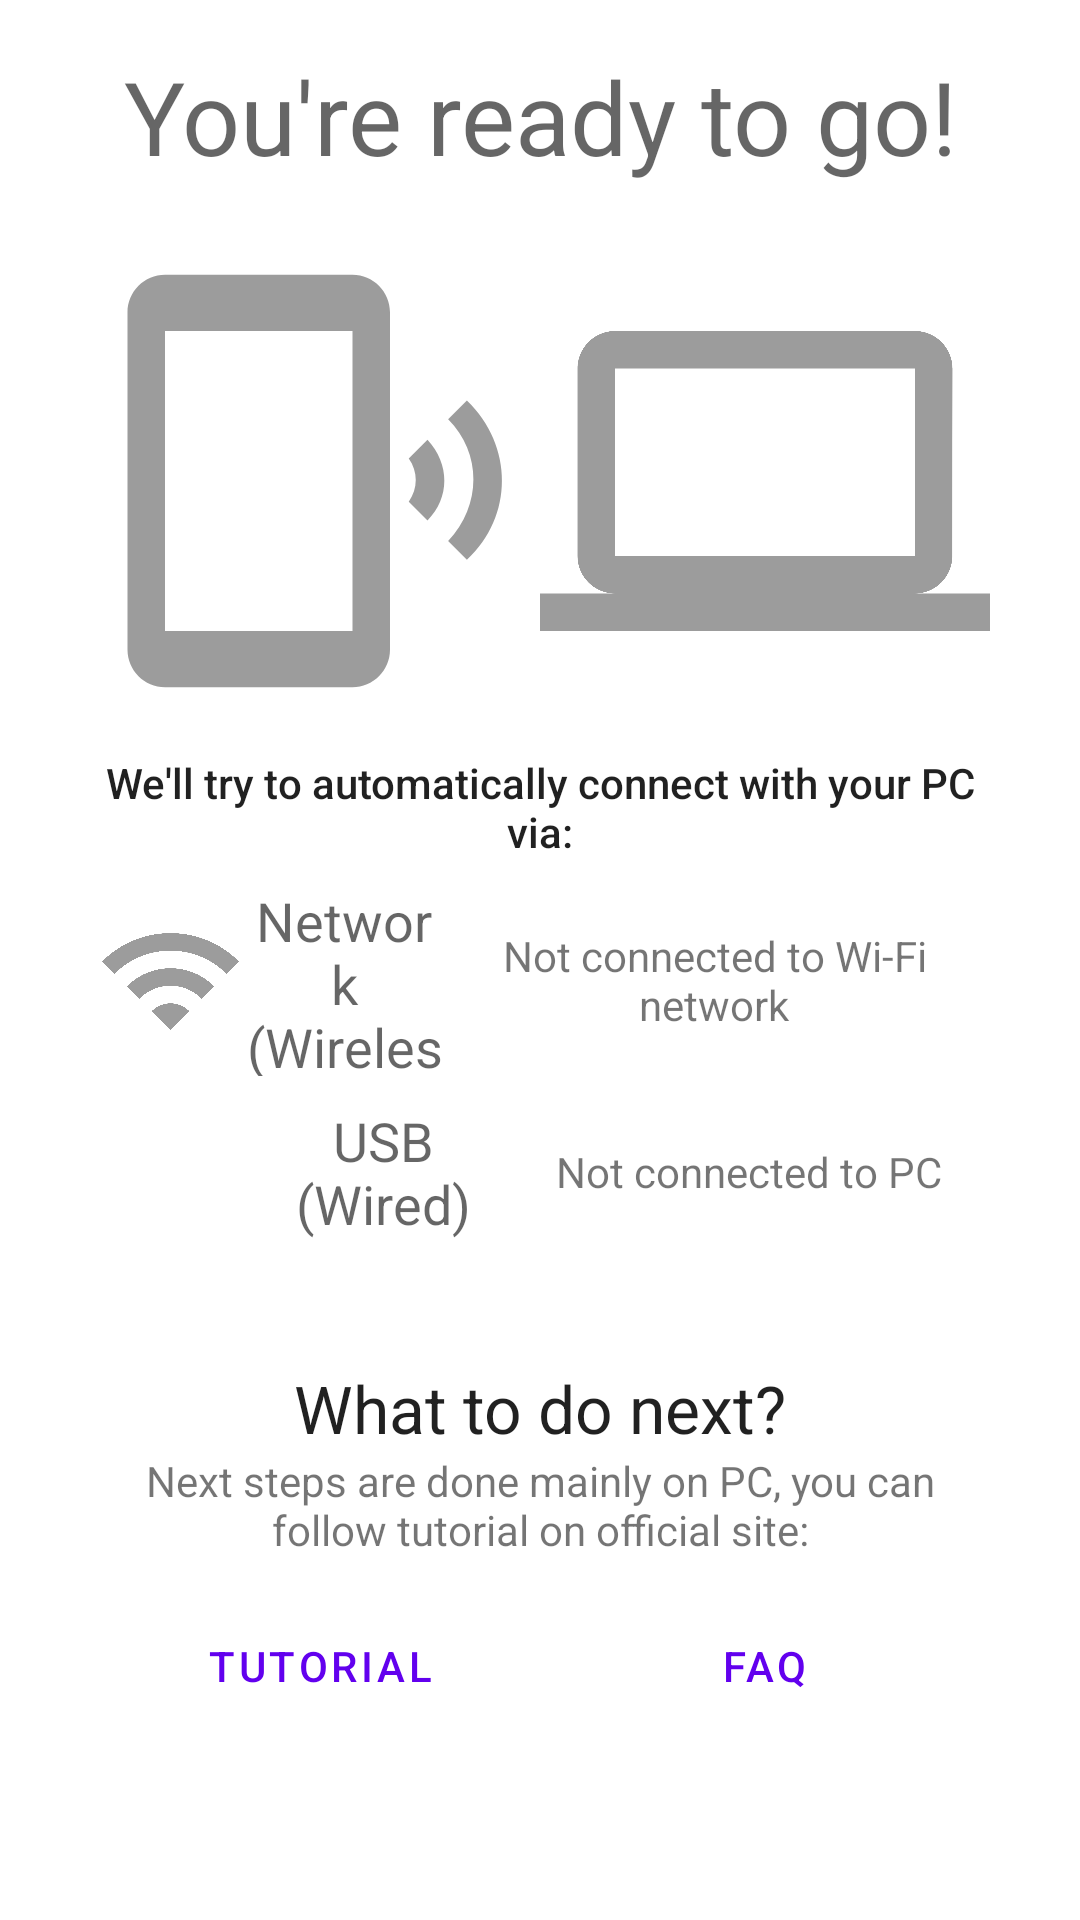

Icon bounding boxes for this 1080px x 1920px phone screenshot, format (x1, y1, x2, y2):
Wi-Fi Icon: (102, 933, 239, 1030)
